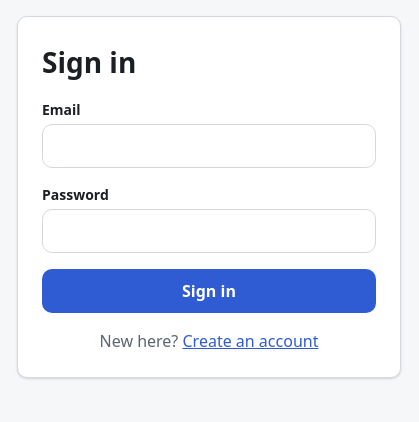
Test case: SignUpPage › is reachable from the sign-in page
This screenshot has width=419, height=422.
Click the link "Create an account" at (250, 341), box 182,330 -> 318,352
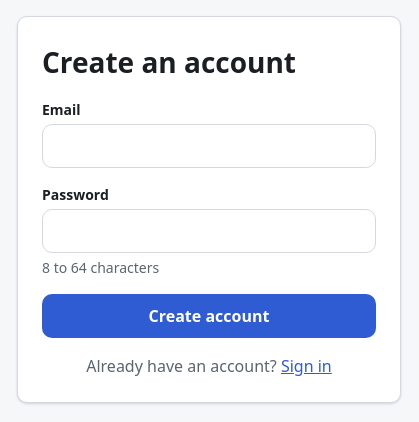
Result: the heading "Create an account" is shown at 42,43 -> 296,81
